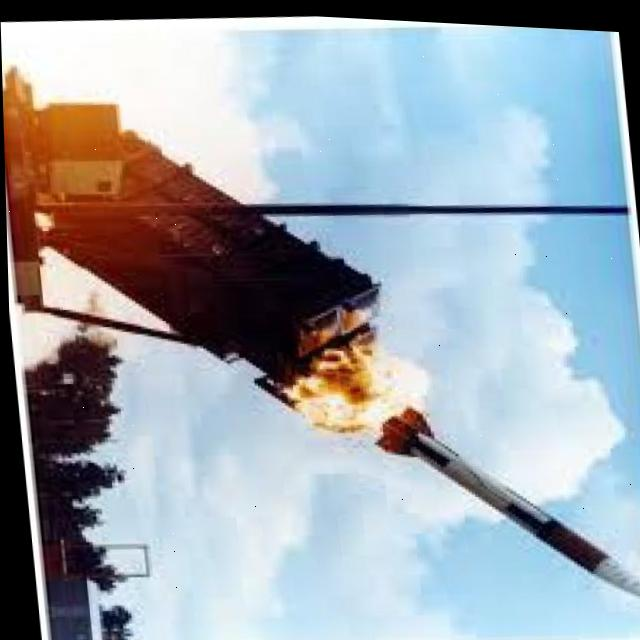missile: (367, 391, 640, 619)
